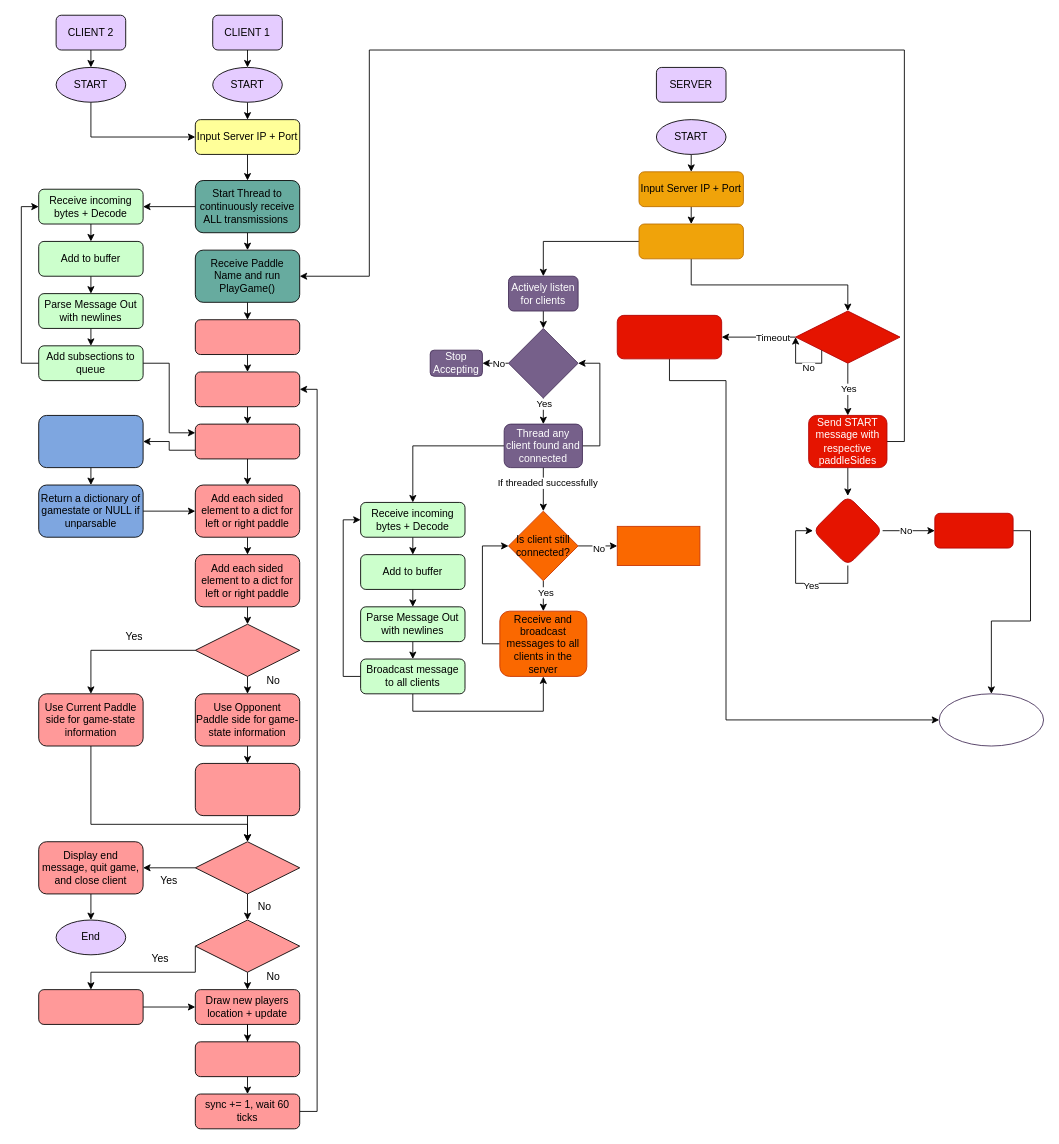
Some shapes in this 1059 by 1144 pixel diagram are drawn without their labels. Here are the shapes that lost their labels. From the top down, the centre of each, then its label:
At (690,241): "Bind Server sockets and start listening".
At (247,337): "Initialize game variables".
At (669,337): "Server timed out, shuts down any client ports and server".
At (847,336): "Is UserCnt >= 2?".
At (543,363): "Is Server Running?".
At (247,389): "Take in user input (down/up)".
At (90,441): "Parse queue transmission to each individual gamestate element".
At (247,441): "Grab and pop top element of queue".
At (658,545): "Remove from list and update usercount".
At (847,530): "Is the game running?".
At (973,530): "Close the client ports and then the server".
At (247,649): "Is current clients data have the highest sync?".
At (247,789): "Update current side to match opponent game state info".
At (247,867): "Is either players score >9?".
At (247,945): "Is there a paddle/Wall collision".
At (90,1006): "Play sound + handle case".
At (247,1059): "Encode + Send update to server".
